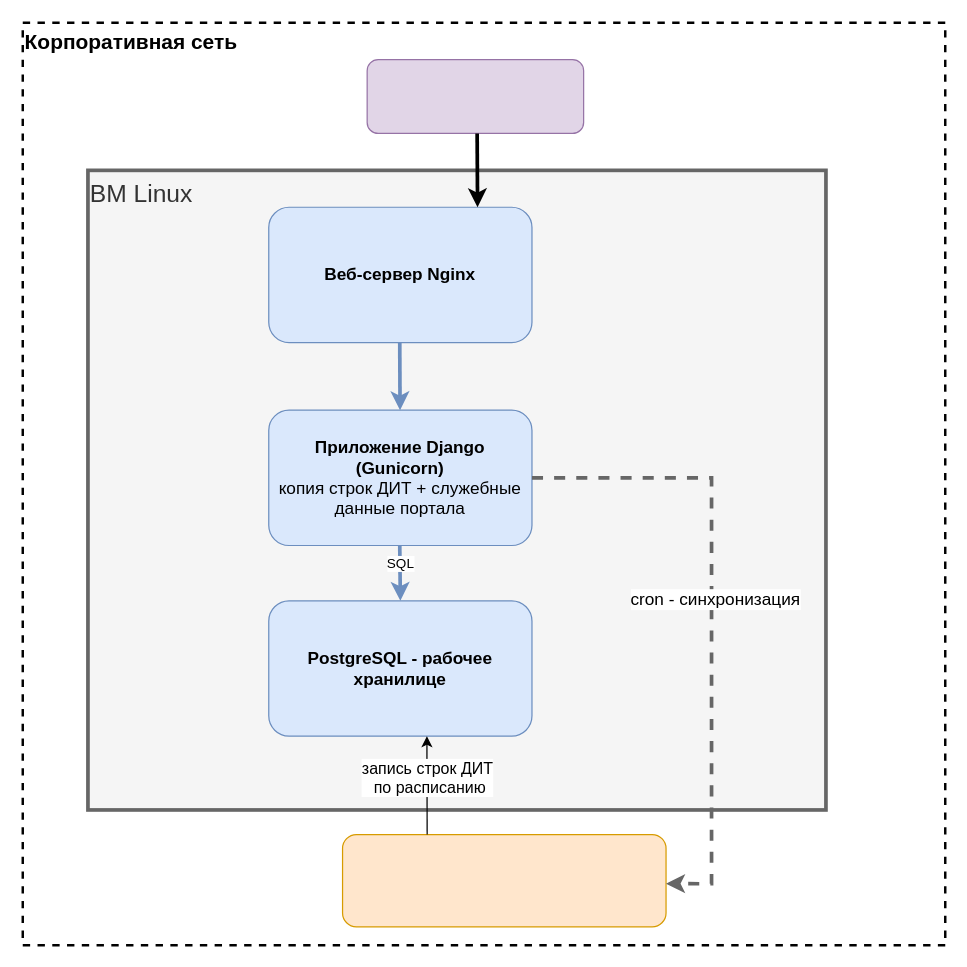
This 967x967 diagram has some shape labels left out. Each missing label, with the centre of its shape:
"БД СААРЦ - первоисточник" goes at (x=503, y=880).
"Пользователь (веб-браузер)" goes at (x=475, y=95).
